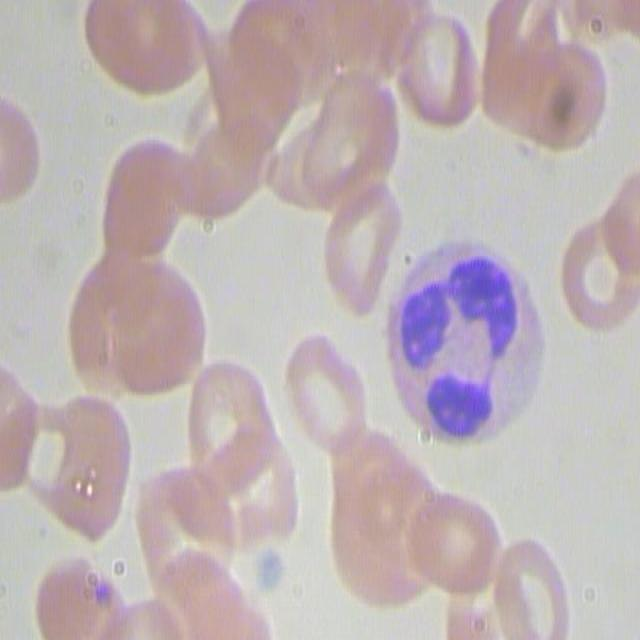RBC: (153, 352, 306, 636), (244, 16, 392, 212), (65, 252, 207, 412), (323, 422, 437, 614), (471, 0, 610, 150), (24, 387, 139, 546), (444, 530, 575, 638), (81, 1, 211, 101), (408, 488, 508, 605), (388, 5, 481, 130), (278, 332, 366, 461), (318, 178, 398, 316), (558, 224, 640, 335), (33, 550, 132, 638), (0, 87, 41, 209)
WBC: (379, 222, 538, 473)
platelets: (243, 539, 295, 619)
